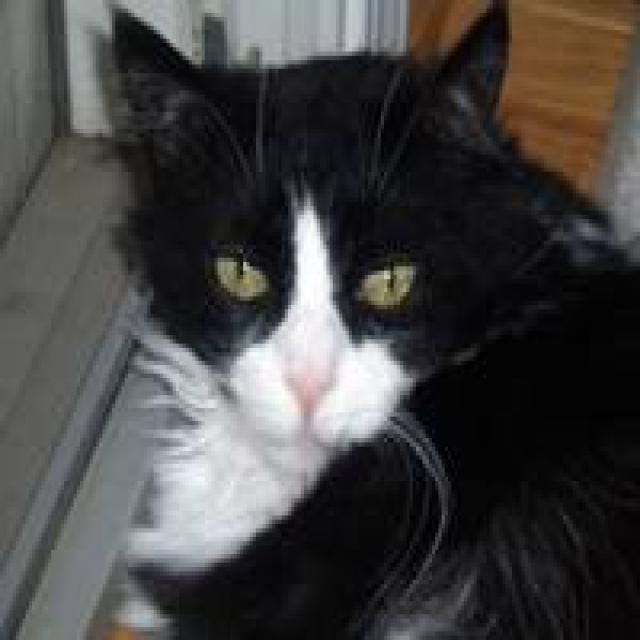cat: (96, 0, 637, 636)
